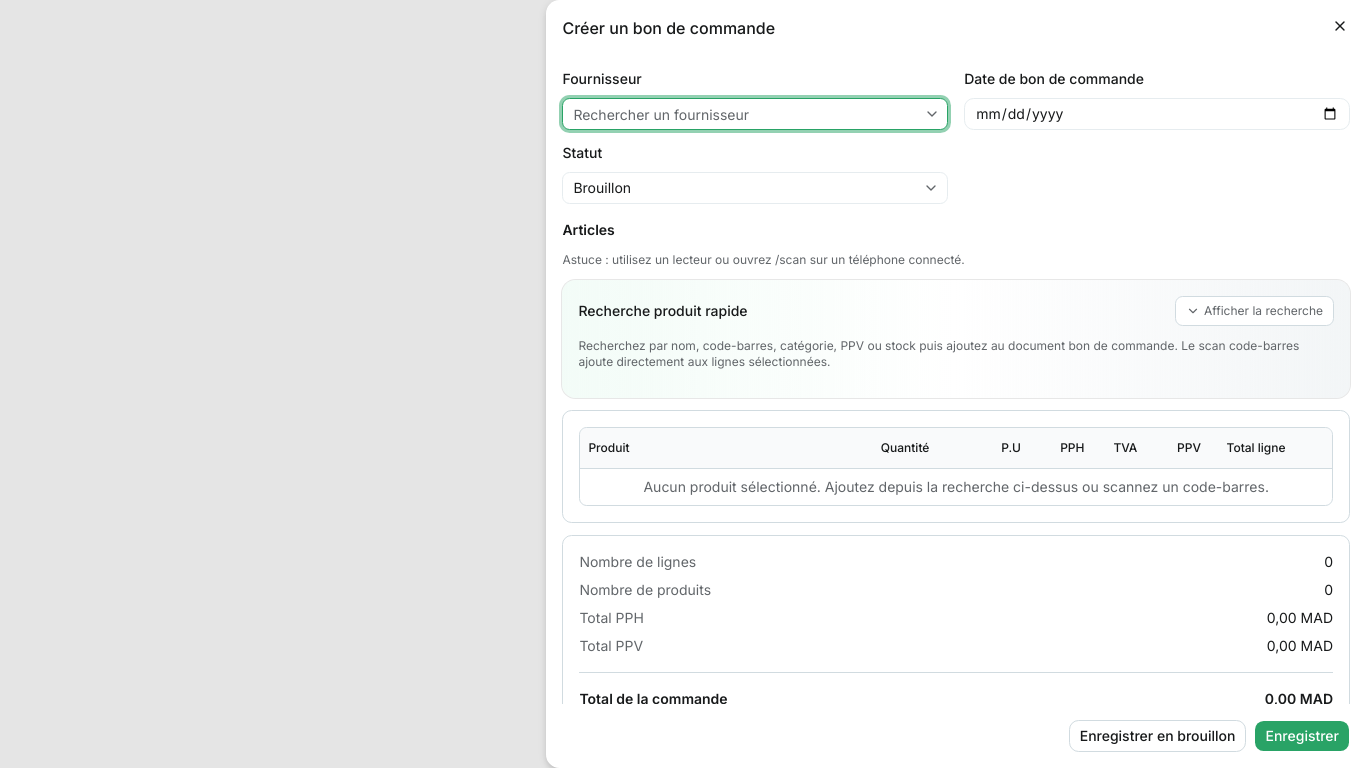
ProcurementOrderModal › starts with no product line and adds one from the search panel
Expected: the text "Aucun produit sélectionné" is shown, [643,478,1269,494]
Expected: the button "Ajouter" is not shown
Click the button "Afficher la recherche" at (1254, 311), box [1175,296,1334,326]
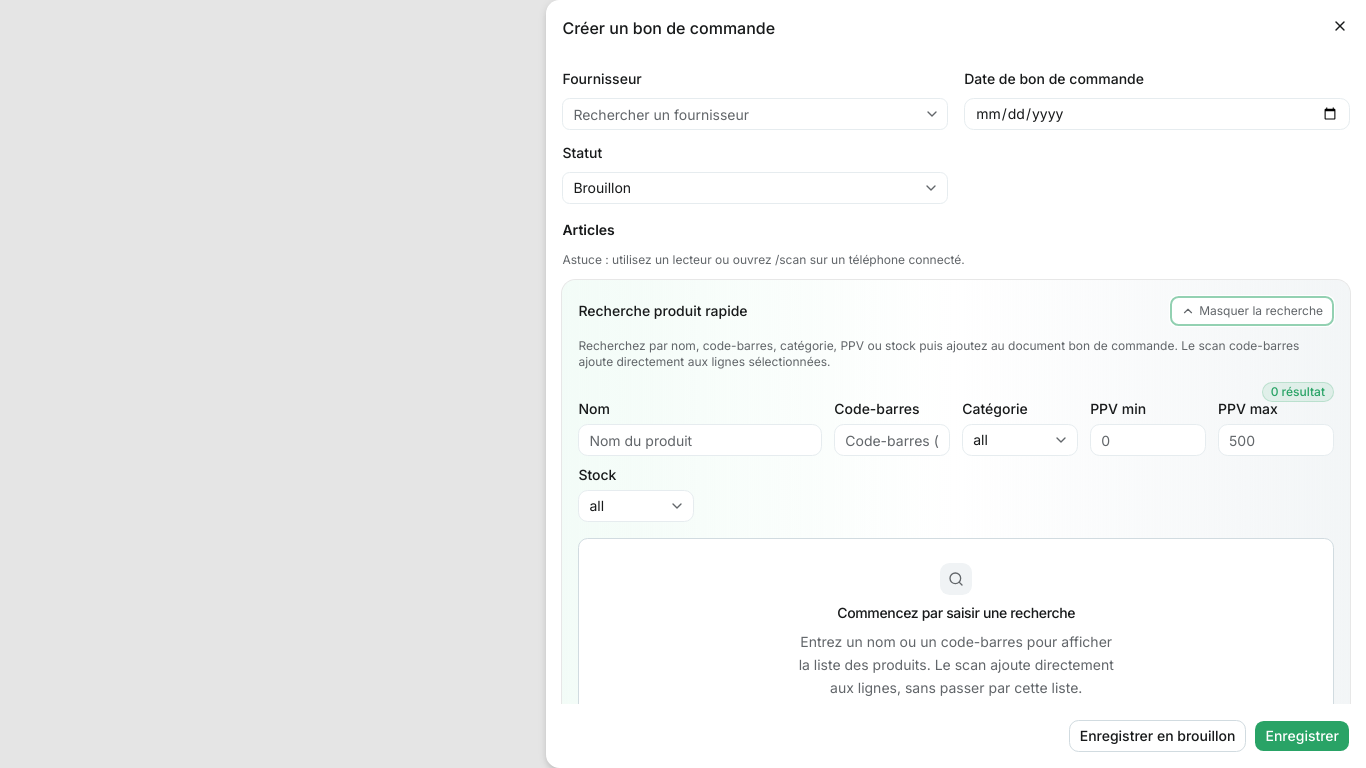
Type "Produit A" into the field labelled "Nom" at (700, 440), box [578,424,822,456]
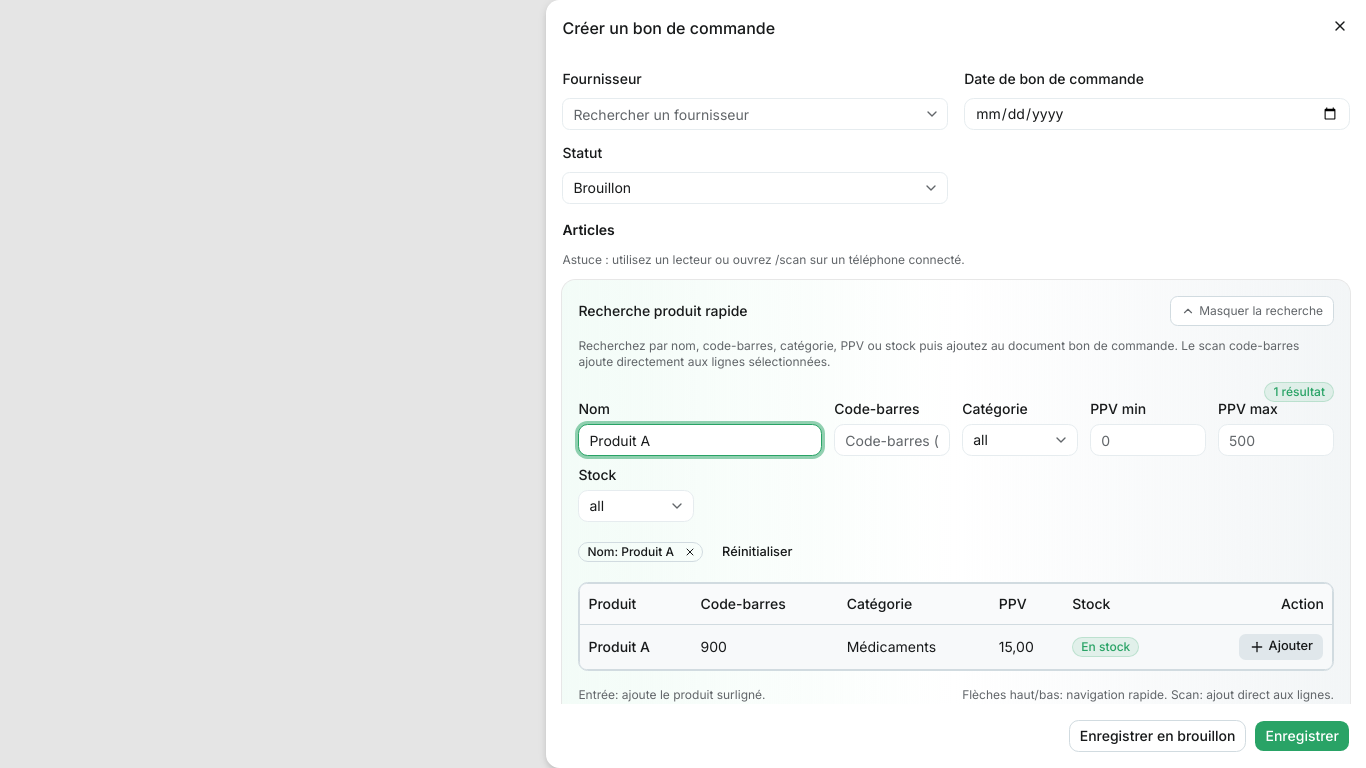
Click the button "Ajouter" at (1281, 646), box [1238,632,1324,660]
(page scrolled)
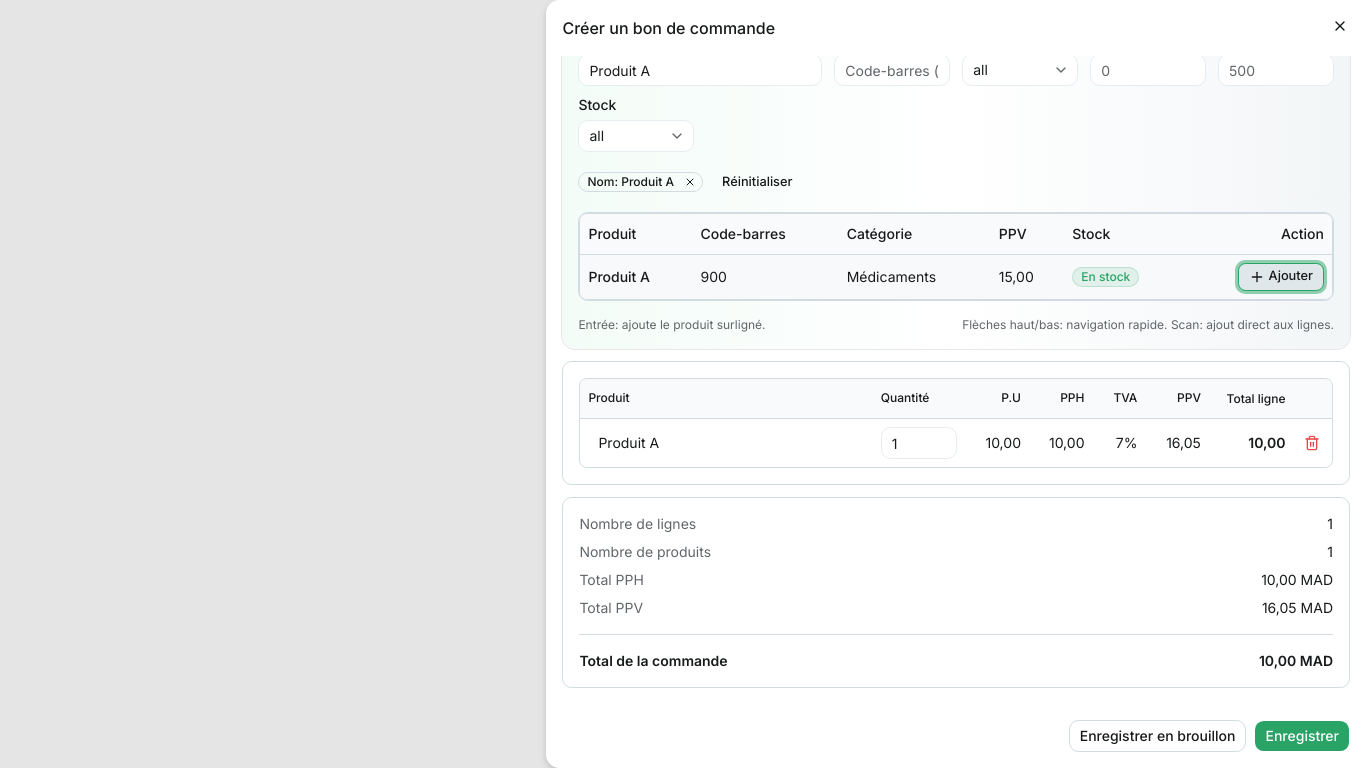
Now the number of buttons named "Supprimer la ligne" is 1, box [1296,427,1328,459]
Now the number field named "Quantité" holds "1", box [881,427,958,459]
